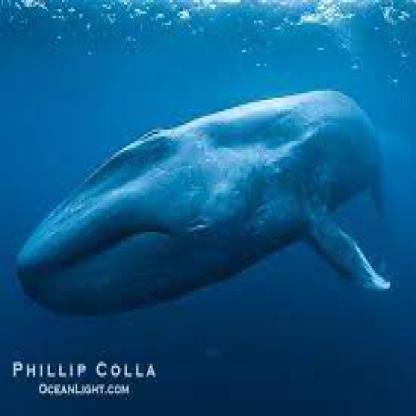blue_whale: (11, 82, 400, 314)
